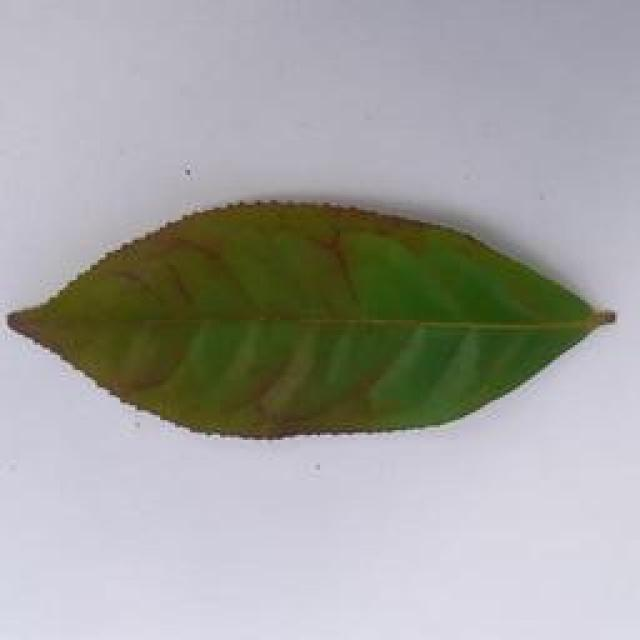Red Leaf Spot: (1, 189, 622, 459)
